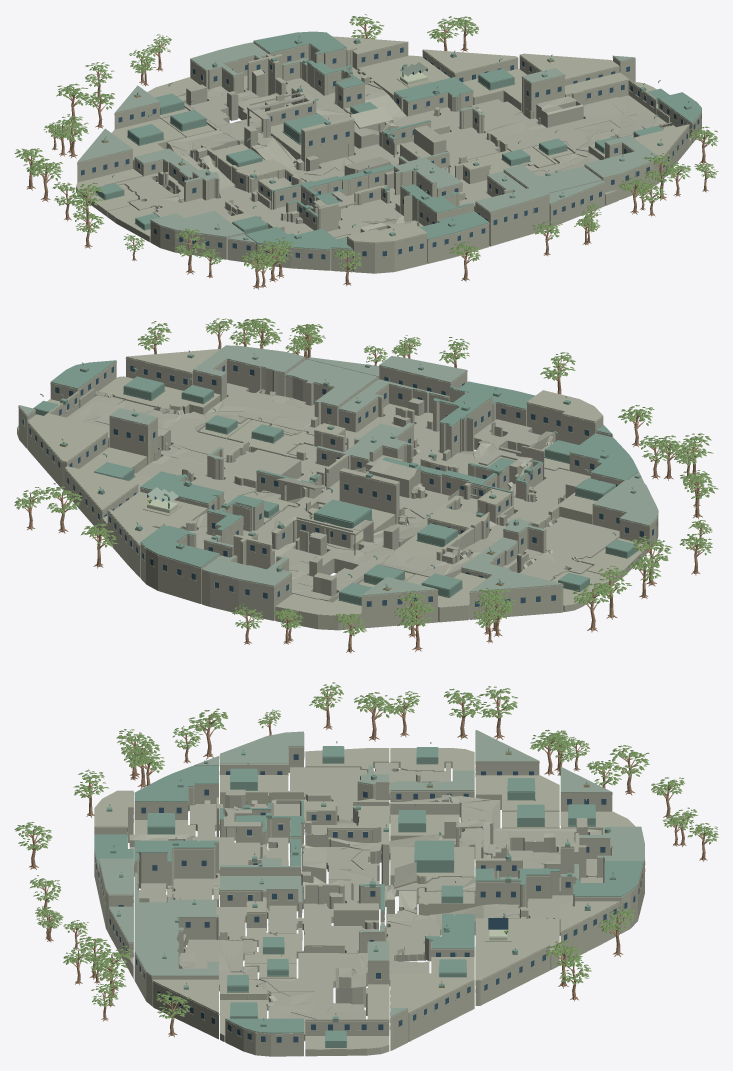
The model's file is cache.glb.
The picture shows the model from 3 angles, top to bottom: view 1: azimuth 30°, elevation 25°; view 2: azimuth 150°, elevation 25°; view 3: azimuth 270°, elevation 25°; orthographic projection. The views are drawn at different scales.
Visible parts, largest first — view 1: ARENA_lower_brick, ARENA_lower_paving, ARENA_lower_stone, ARENA_lower_metal, ARENA_lower_roof, ARENA_lower_leaf, ARENA_lower_bark, ARENA_lower_glass; view 2: ARENA_lower_brick, ARENA_lower_paving, ARENA_lower_stone, ARENA_lower_metal, ARENA_lower_roof, ARENA_lower_leaf, ARENA_lower_bark, ARENA_lower_glass; view 3: ARENA_lower_paving, ARENA_lower_stone, ARENA_lower_brick, ARENA_lower_metal, ARENA_lower_roof, ARENA_lower_leaf, ARENA_lower_bark, ARENA_lower_glass.
Boxes of the visible parts, left/top/right/bottom form: ARENA_lower_brick: left=77, top=41, right=701, bottom=273; ARENA_lower_paving: left=115, top=65, right=671, bottom=237; ARENA_lower_stone: left=76, top=36, right=701, bottom=260; ARENA_lower_metal: left=95, top=31, right=701, bottom=249; ARENA_lower_roof: left=77, top=42, right=658, bottom=242; ARENA_lower_leaf: left=14, top=14, right=718, bottom=271; ARENA_lower_bark: left=22, top=20, right=710, bottom=289; ARENA_lower_glass: left=81, top=47, right=701, bottom=259; ARENA_lower_brick: left=18, top=357, right=658, bottom=628; ARENA_lower_paving: left=67, top=383, right=619, bottom=602; ARENA_lower_stone: left=17, top=349, right=658, bottom=630; ARENA_lower_metal: left=33, top=350, right=640, bottom=605; ARENA_lower_roof: left=18, top=345, right=658, bottom=603; ARENA_lower_leaf: left=14, top=318, right=718, bottom=636; ARENA_lower_bark: left=24, top=322, right=708, bottom=653; ARENA_lower_glass: left=22, top=365, right=657, bottom=606; ARENA_lower_paving: left=129, top=762, right=602, bottom=1040; ARENA_lower_stone: left=94, top=731, right=645, bottom=1056; ARENA_lower_brick: left=94, top=747, right=644, bottom=1056; ARENA_lower_metal: left=94, top=741, right=643, bottom=1047; ARENA_lower_roof: left=99, top=730, right=644, bottom=1042; ARENA_lower_leaf: left=14, top=682, right=718, bottom=1020; ARENA_lower_bark: left=23, top=690, right=710, bottom=1037; ARENA_lower_glass: left=95, top=752, right=642, bottom=1042.
Size of what is drawn, in the model's own units: 79.26 by 6.12 by 70.32.
